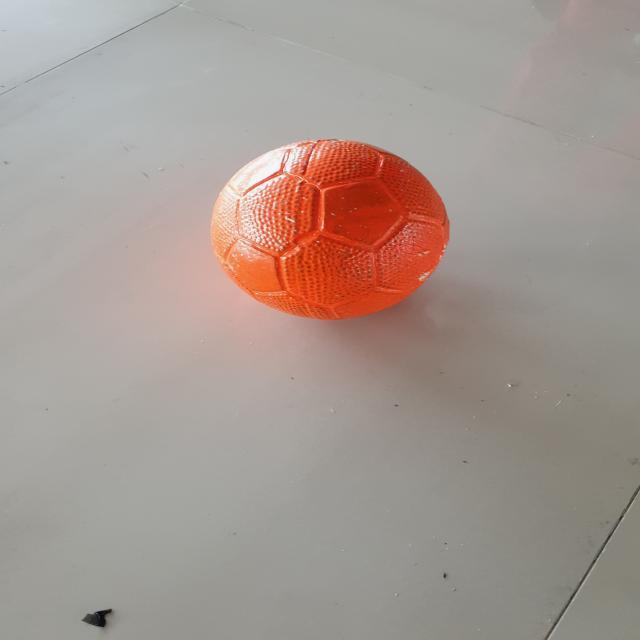bola: (198, 128, 457, 328)
